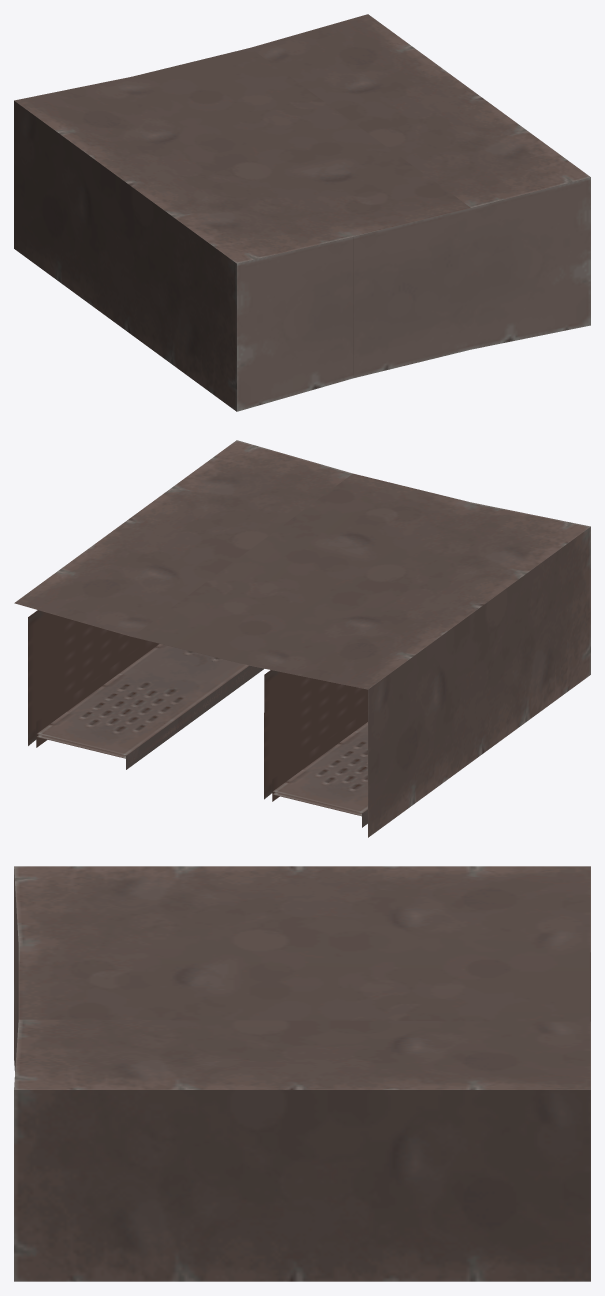
Rendered from locker_2.glb.
3 renders of one model, top to bottom at view 1: azimuth 30°, elevation 25°; view 2: azimuth 150°, elevation 25°; view 3: azimuth 270°, elevation 25°, orthographic. The views are drawn at different scales.
Visible parts, largest first — view 1: gremlin.locker_2-MeshNodes["lockers_2"]; view 2: gremlin.locker_2-MeshNodes["lockers_2"], gremlin.locker_door_set-MeshSets[door_1].Mesh[0] (×2), gremlin.locker_door_set-MeshSets[door_3].Mesh[0] (×2), gremlin.locker_door_set-MeshSets[door_2].Mesh[0]; view 3: gremlin.locker_2-MeshNodes["lockers_2"].
Part boxes in pixels (x1,y1,x2,y2): gremlin.locker_2-MeshNodes["lockers_2"]: (14,14,590,411); gremlin.locker_2-MeshNodes["lockers_2"]: (14,440,590,837); gremlin.locker_door_set-MeshSets[door_1].Mesh[0] (×2): (37,644,367,827); gremlin.locker_door_set-MeshSets[door_3].Mesh[0] (×2): (80,644,367,824); gremlin.locker_door_set-MeshSets[door_2].Mesh[0]: (36,666,258,762); gremlin.locker_2-MeshNodes["lockers_2"]: (14,866,590,1281).
Size of the model in its own units: 2 by 0.8 by 2.18.
1 material, 1 textured.
